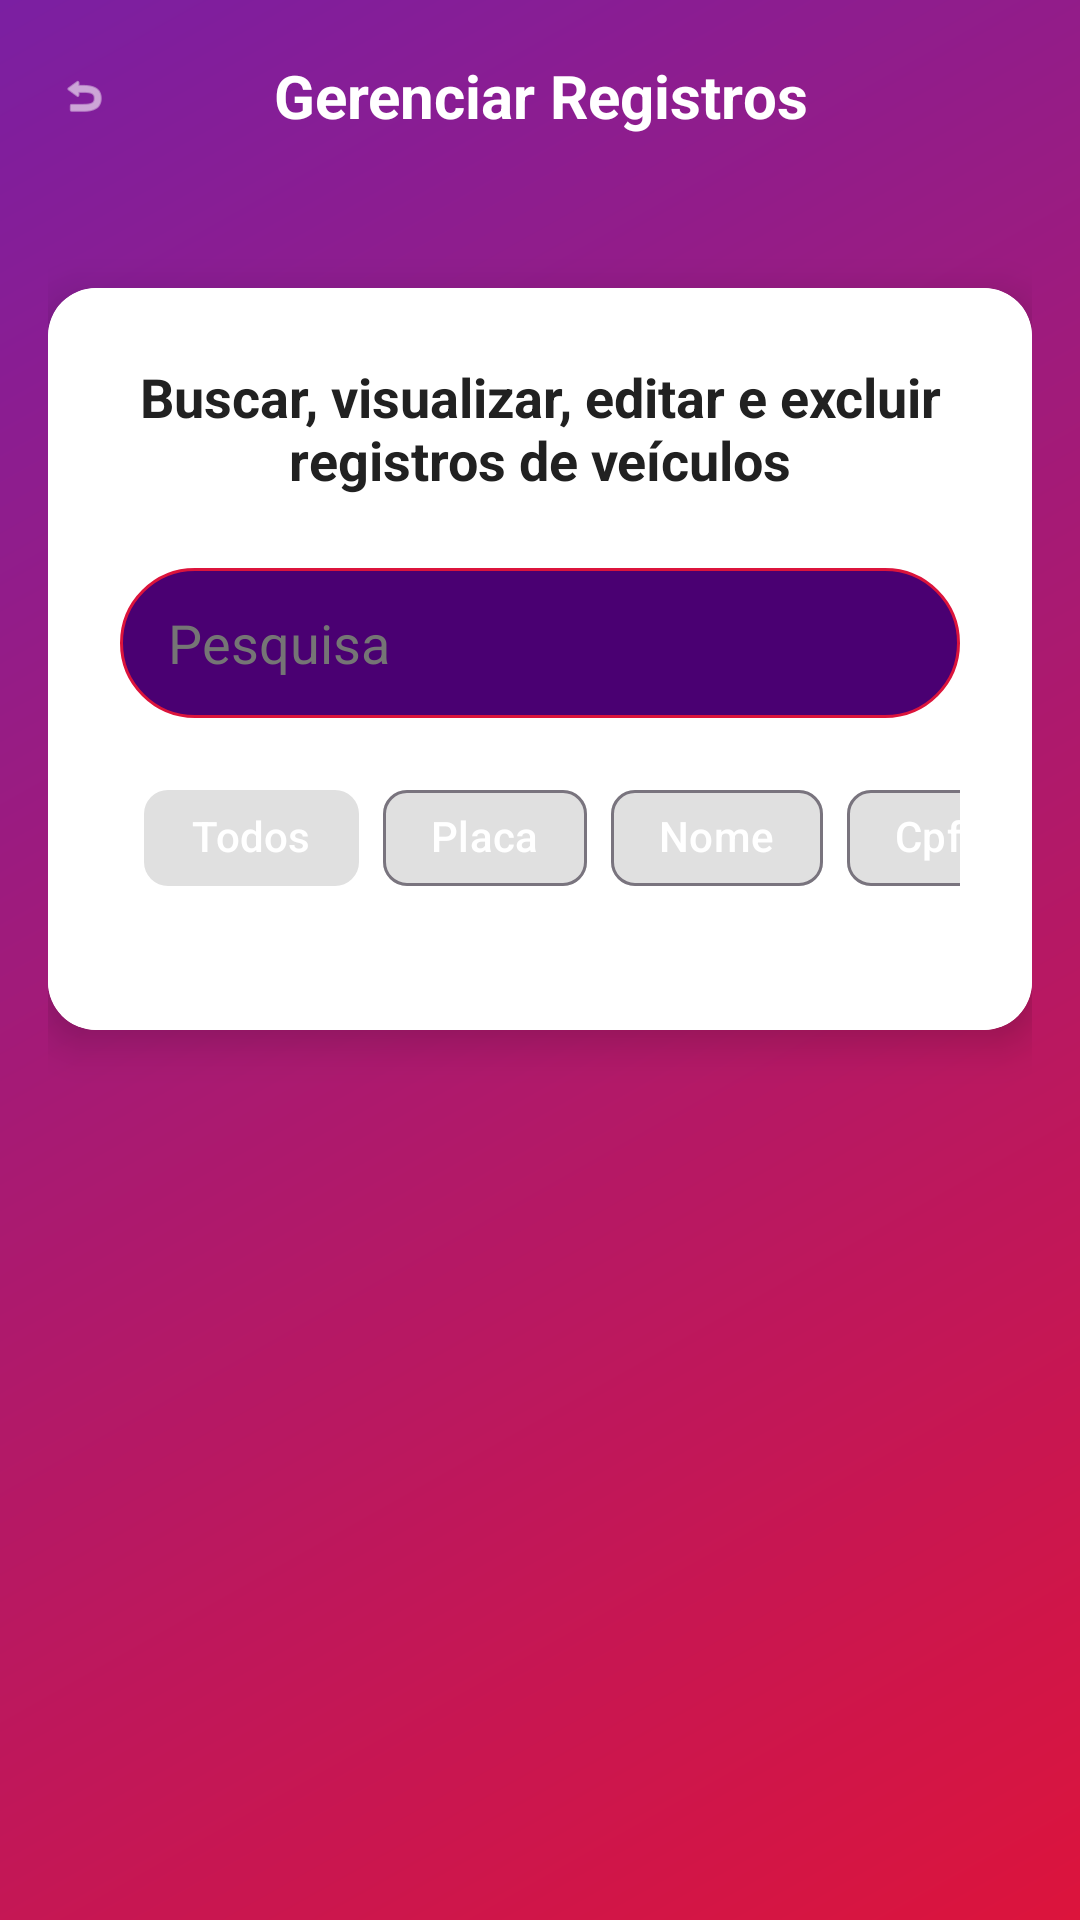

Where icons sit on this 1080 x 1920 app screen, as (x1, y1, x2, y2):
revert: (67, 81, 102, 112)
